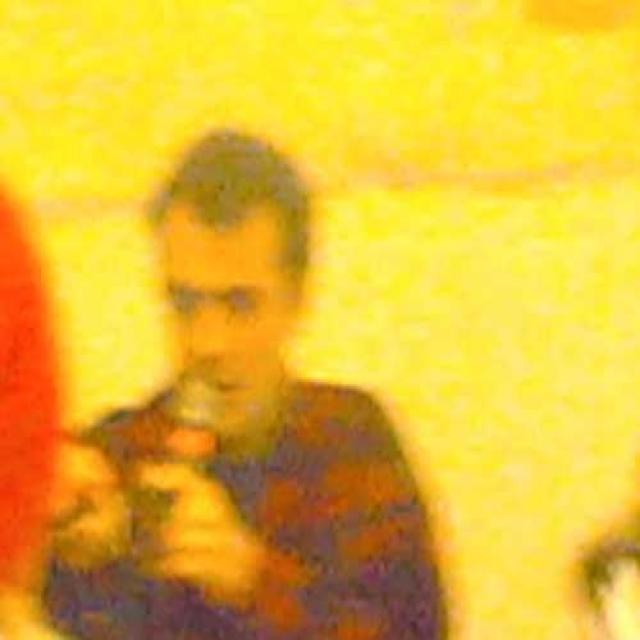microphone: (123, 376, 235, 567)
